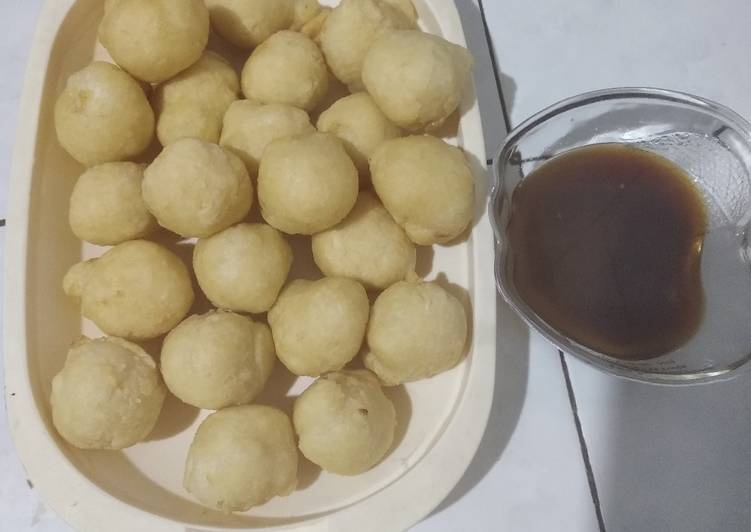pempek: (47, 1, 475, 511)
